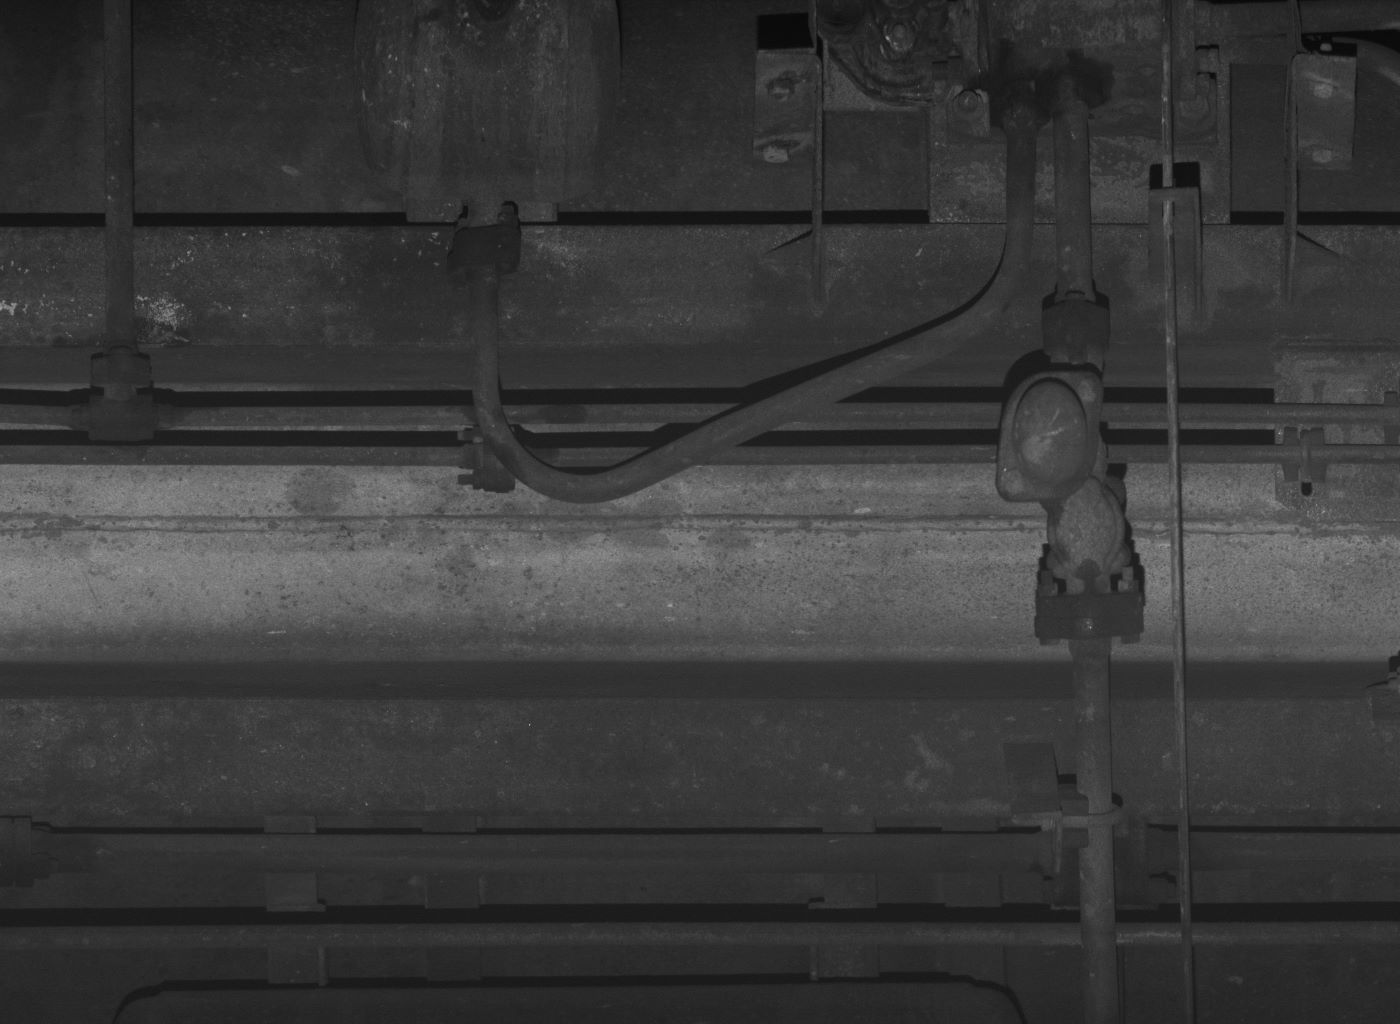normal: (1046, 475, 1132, 577)
